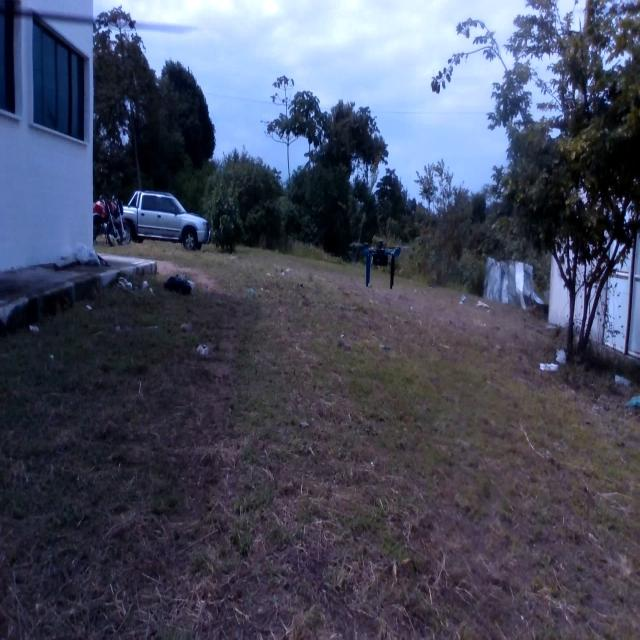-uav-: (346, 220, 413, 297)
